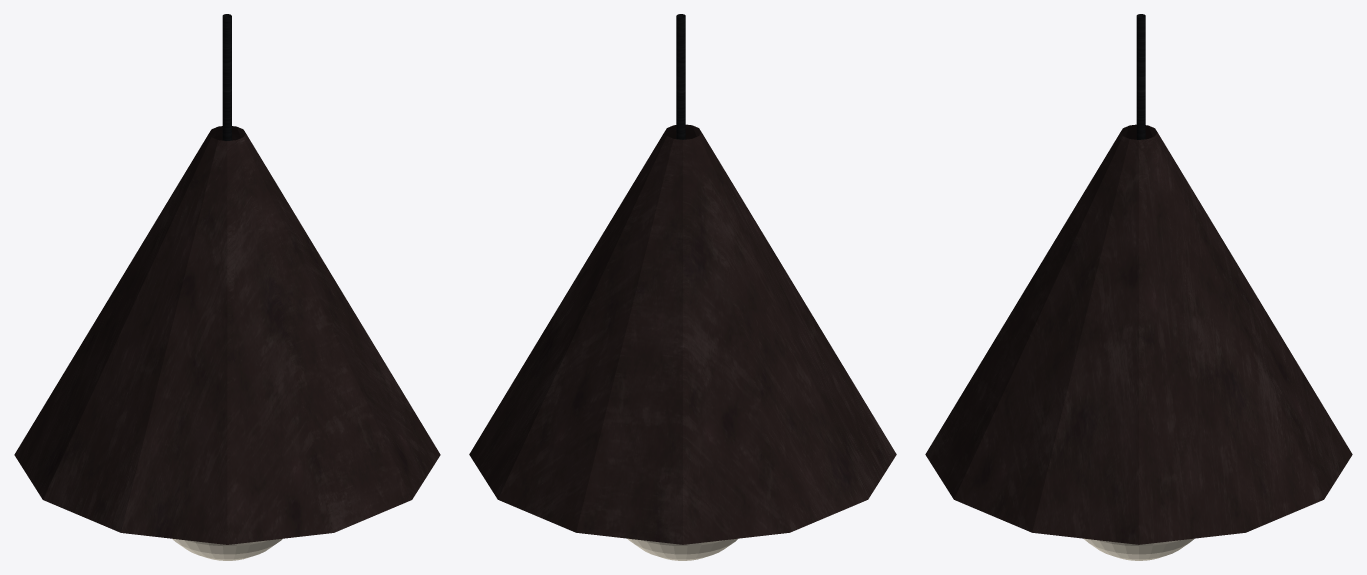
Rendered from lampcolo.fbx.
The picture shows the model from 3 angles, left to right: view 1: azimuth 30°, elevation 25°; view 2: azimuth 150°, elevation 25°; view 3: azimuth 270°, elevation 25°; orthographic projection.
Parts seen in each view (by area): view 1: Cylinder.044, Sphere.006; view 2: Cylinder.044, Sphere.006; view 3: Cylinder.044, Sphere.006.
Part boxes in pixels (bbox=[...]): Cylinder.044: bbox=[14, 126, 440, 544]; Sphere.006: bbox=[172, 14, 282, 560]; Cylinder.044: bbox=[469, 124, 896, 544]; Sphere.006: bbox=[627, 14, 737, 560]; Cylinder.044: bbox=[925, 124, 1352, 544]; Sphere.006: bbox=[1083, 14, 1194, 560].
Size of the model in its own units: 481 by 668 by 481.
Materials: 3 (3 with a texture image).
